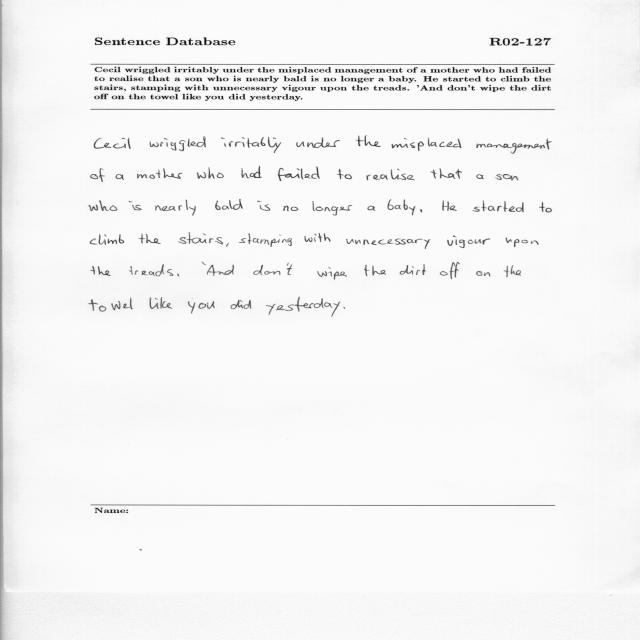word: (266, 297, 340, 317), (477, 139, 552, 154), (221, 137, 281, 153), (347, 238, 431, 249), (392, 138, 462, 151), (149, 137, 206, 152), (239, 233, 292, 247), (155, 200, 196, 216), (278, 166, 320, 181), (472, 201, 524, 213), (89, 298, 133, 312), (313, 201, 353, 216), (366, 169, 415, 181), (447, 235, 490, 248), (178, 233, 223, 245), (129, 264, 173, 276), (137, 168, 183, 179), (296, 137, 340, 148), (388, 199, 416, 216), (254, 263, 293, 275), (94, 138, 131, 149), (317, 267, 347, 280), (90, 234, 124, 245), (430, 168, 462, 179), (440, 262, 460, 279), (188, 301, 214, 314), (506, 238, 539, 248), (197, 167, 224, 179), (89, 201, 118, 212), (215, 199, 243, 210), (207, 265, 234, 276), (400, 264, 426, 275), (150, 297, 173, 309), (356, 136, 381, 147), (242, 167, 263, 179), (364, 265, 386, 276), (305, 233, 331, 242), (138, 234, 161, 244), (504, 265, 521, 277), (91, 266, 111, 276), (91, 168, 105, 182), (231, 300, 251, 309), (442, 200, 457, 211), (495, 174, 518, 181), (337, 169, 352, 179), (539, 202, 552, 213), (257, 201, 270, 211), (129, 201, 142, 210), (284, 206, 299, 211), (476, 271, 491, 276), (115, 174, 124, 180), (476, 174, 484, 179), (368, 206, 376, 211), (226, 243, 229, 247), (202, 262, 206, 265), (420, 210, 422, 213), (178, 274, 180, 276), (344, 307, 346, 309)
